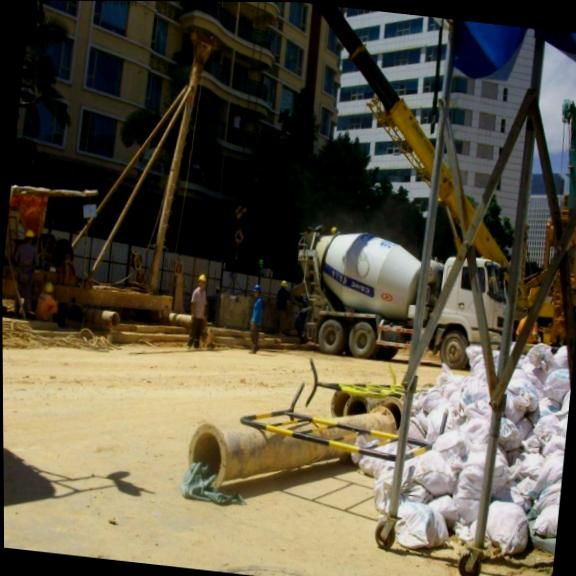no_safety_vest: (189, 286, 209, 325), (248, 296, 265, 332)
